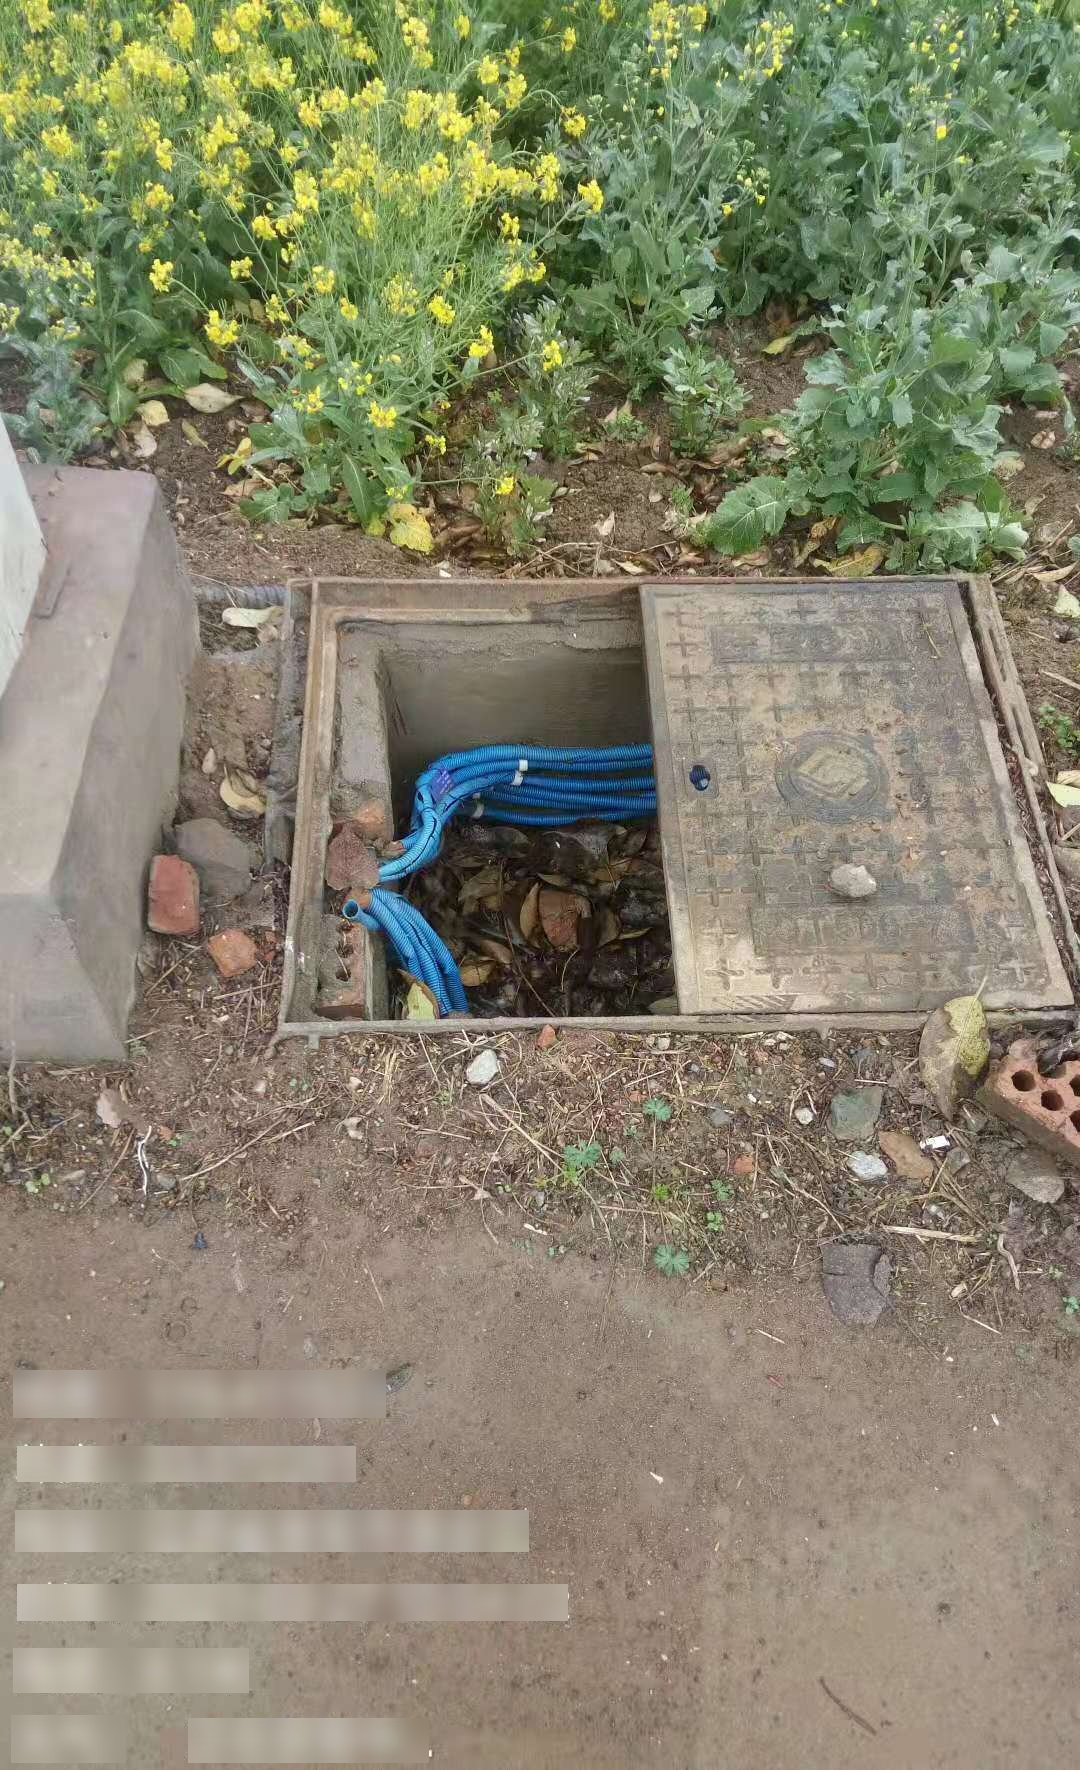lose: (271, 566, 1080, 1041)
